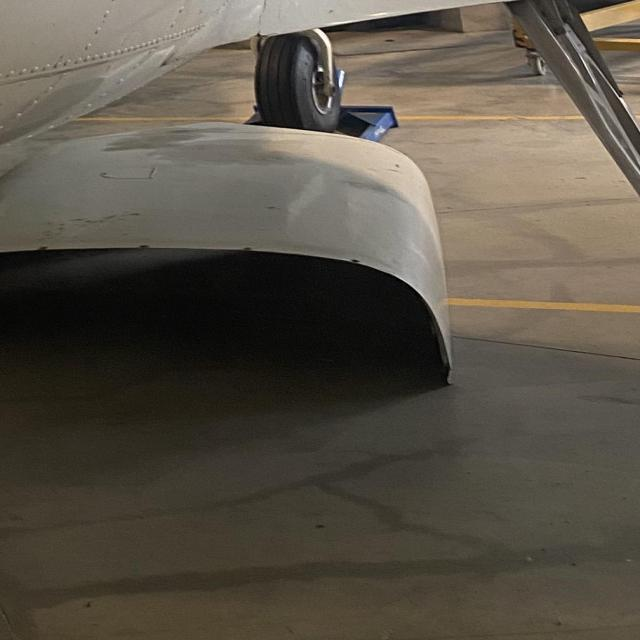Rupture: (242, 0, 300, 44)
